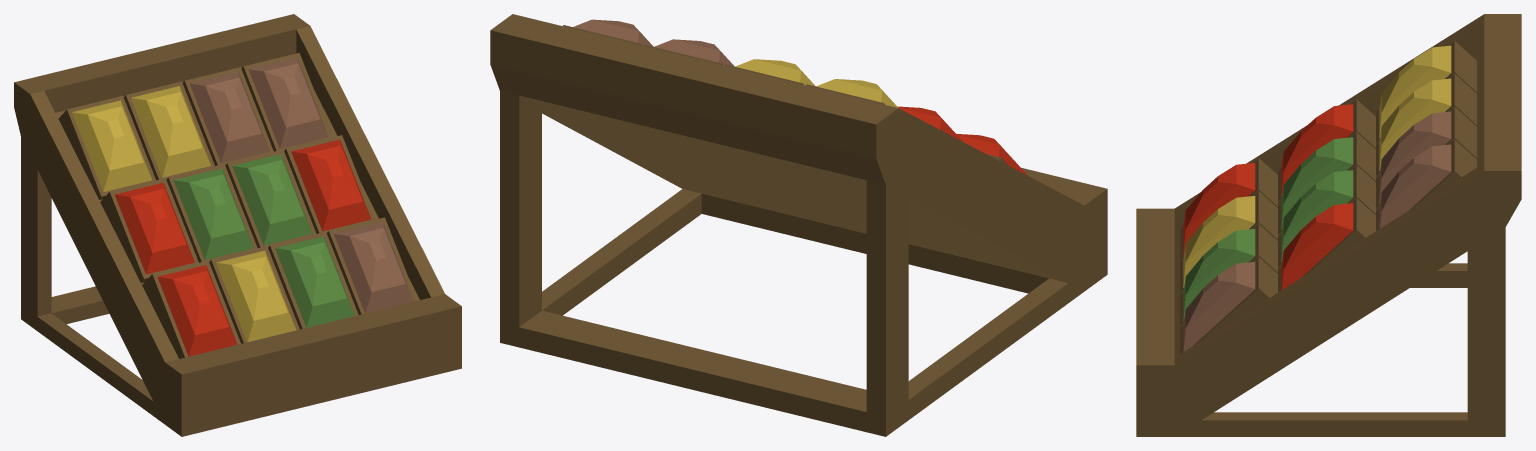
The model's file is Stall.fbx.
The picture shows the model from 3 angles, left to right: view 1: azimuth 30°, elevation 25°; view 2: azimuth 150°, elevation 25°; view 3: azimuth 270°, elevation 25°; orthographic projection. The views are drawn at different scales.
Parts seen in each view (by area): view 1: Boxes, Stand; view 2: Stand, Boxes; view 3: Stand, Boxes.
Part boxes in pixels (x1,y1,x2,y2): Boxes: [58, 52, 417, 358]; Stand: [14, 14, 461, 436]; Stand: [490, 14, 1107, 436]; Boxes: [563, 19, 1027, 175]; Stand: [1136, 14, 1521, 436]; Boxes: [1180, 40, 1476, 353].
Size of what is drawn, in the model's own units: 2 by 1.58 by 2.07.
